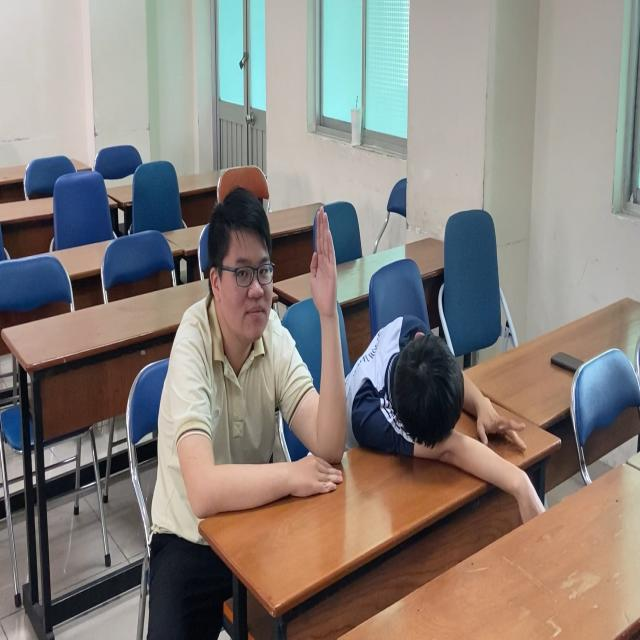raise_hand: (178, 196, 348, 508)
sleep: (302, 315, 540, 487)
